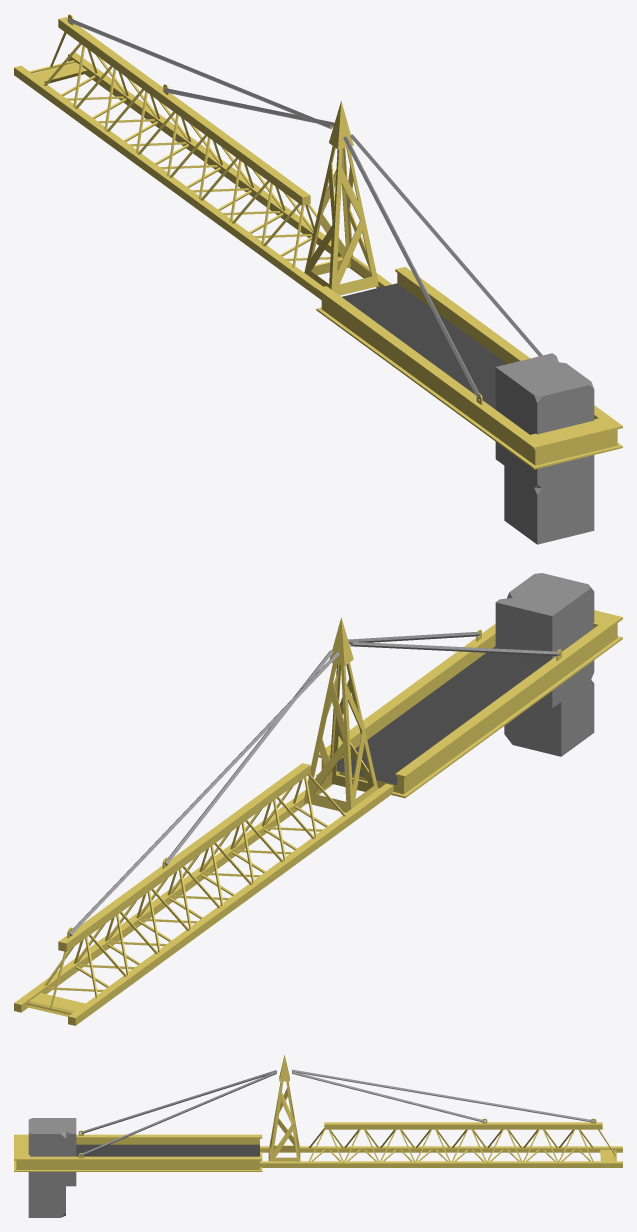
File: Cranehorizontal.fbx
3 renders of one model, top to bottom at view 1: azimuth 30°, elevation 25°; view 2: azimuth 150°, elevation 25°; view 3: azimuth 270°, elevation 25°, orthographic. The views are drawn at different scales.
Visible parts, largest first — view 1: Crane_Cylinder, Crane_Cylinder.008, Crane_Cylinder.011; view 2: Crane_Cylinder, Crane_Cylinder.008, Crane_Cylinder.011; view 3: Crane_Cylinder, Crane_Cylinder.011, Crane_Cylinder.008.
Boxes of the visible parts, x1=… form: Crane_Cylinder: x1=14, y1=17, x2=622, y2=544; Crane_Cylinder.008: x1=304, y1=101, x2=378, y2=295; Crane_Cylinder.011: x1=67, y1=14, x2=542, y2=404; Crane_Cylinder: x1=14, y1=573, x2=622, y2=1025; Crane_Cylinder.008: x1=304, y1=617, x2=378, y2=812; Crane_Cylinder.011: x1=67, y1=629, x2=561, y2=938; Crane_Cylinder: x1=14, y1=1118, x2=622, y2=1217; Crane_Cylinder.011: x1=78, y1=1069, x2=596, y2=1158; Crane_Cylinder.008: x1=268, y1=1055, x2=300, y2=1161.
Size of the model in its own units: 160 by 470 by 1663.
